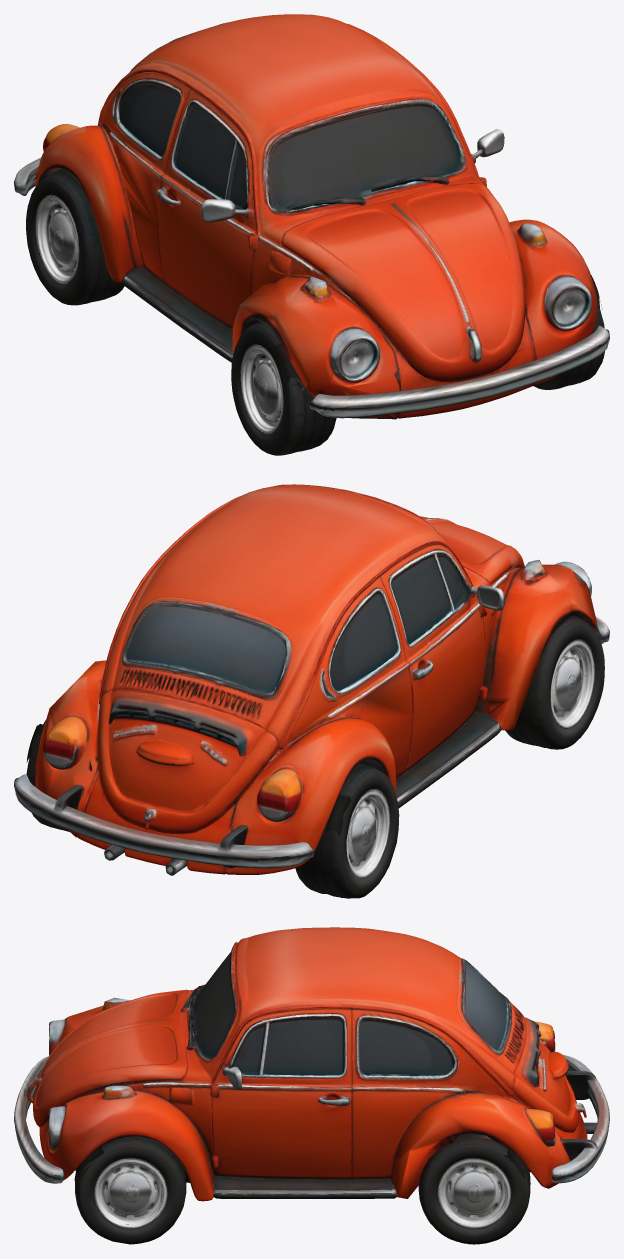
The model's file is vw_beetle_1967.glb.
The picture shows the model from 3 angles, top to bottom: view 1: azimuth 30°, elevation 25°; view 2: azimuth 150°, elevation 25°; view 3: azimuth 270°, elevation 25°; orthographic projection. The views are drawn at different scales.
Visible parts, largest first — view 1: tripo_part_0, tripo_part_9, tripo_part_15, tripo_part_4, tripo_part_24, tripo_part_2, tripo_part_3, tripo_part_7, tripo_part_22, tripo_part_10, tripo_part_16, tripo_part_13 (+10 smaller); view 2: tripo_part_0, tripo_part_7, tripo_part_4, tripo_part_19, tripo_part_23, tripo_part_17, tripo_part_2, tripo_part_3, tripo_part_8, tripo_part_24, tripo_part_5, tripo_part_16 (+11 smaller); view 3: tripo_part_0, tripo_part_11, tripo_part_12, tripo_part_9, tripo_part_1, tripo_part_6, tripo_part_5, tripo_part_10, tripo_part_14, tripo_part_15, tripo_part_8, tripo_part_23 (+10 smaller).
Boxes of the visible parts, x1,y1,x2,y2 form: tripo_part_0: (101,14,483,284); tripo_part_9: (281,181,525,382); tripo_part_15: (265,99,467,216); tripo_part_4: (232,274,401,419); tripo_part_24: (158,180,287,329); tripo_part_2: (26,169,124,305); tripo_part_3: (231,321,336,455); tripo_part_7: (35,125,143,284); tripo_part_22: (310,325,609,418); tripo_part_10: (509,219,597,385); tripo_part_16: (107,132,310,284); tripo_part_13: (121,267,232,362); tripo_part_0: (101,484,514,797); tripo_part_7: (225,717,396,874); tripo_part_4: (475,559,596,730); tripo_part_19: (126,606,286,694); tripo_part_23: (97,691,278,835); tripo_part_17: (107,712,247,812); tripo_part_2: (295,763,399,898); tripo_part_3: (505,615,604,749); tripo_part_8: (14,774,314,868); tripo_part_24: (405,608,497,770); tripo_part_5: (35,660,106,837); tripo_part_16: (324,576,507,778); tripo_part_0: (130,927,527,1156); tripo_part_11: (351,1007,512,1178); tripo_part_12: (210,1089,354,1180); tripo_part_9: (32,989,188,1128); tripo_part_1: (74,1136,186,1244); tripo_part_6: (418,1138,530,1244); tripo_part_5: (391,1092,570,1198); tripo_part_10: (44,1089,214,1201); tripo_part_14: (213,1175,396,1198); tripo_part_15: (181,943,236,1062); tripo_part_8: (551,1055,609,1183); tripo_part_23: (513,1017,586,1133).
Size of the model in its own units: 0.5182 by 0.4333 by 0.9997.
Materials: 1 (1 with a texture image).
